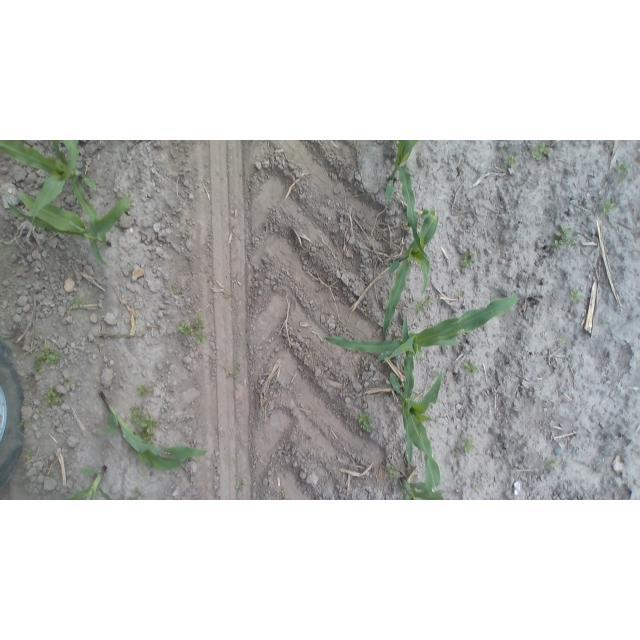Maize: (313, 295, 520, 383), (93, 389, 211, 476), (7, 187, 132, 269), (387, 340, 450, 497), (0, 141, 102, 228), (374, 203, 440, 336), (380, 141, 434, 268), (58, 465, 121, 500), (397, 475, 445, 499)
Weeds: (133, 406, 160, 443), (177, 316, 207, 345), (33, 347, 61, 371), (552, 224, 577, 250), (44, 386, 66, 407), (356, 412, 374, 435), (532, 144, 553, 163), (458, 251, 476, 271), (598, 199, 617, 217), (460, 437, 476, 456), (462, 360, 479, 377), (414, 298, 432, 314), (545, 455, 561, 473), (136, 384, 155, 399), (617, 161, 632, 179), (569, 288, 585, 304), (70, 297, 86, 311), (129, 489, 149, 500), (230, 363, 243, 379), (172, 283, 185, 297), (62, 377, 75, 390), (385, 465, 399, 477), (503, 154, 517, 166), (558, 336, 570, 347), (235, 480, 246, 492), (277, 489, 287, 500), (275, 381, 286, 391), (475, 480, 484, 492), (274, 274, 283, 285), (402, 221, 411, 231), (600, 317, 608, 328), (456, 290, 464, 299), (146, 193, 154, 200), (24, 454, 32, 460)
